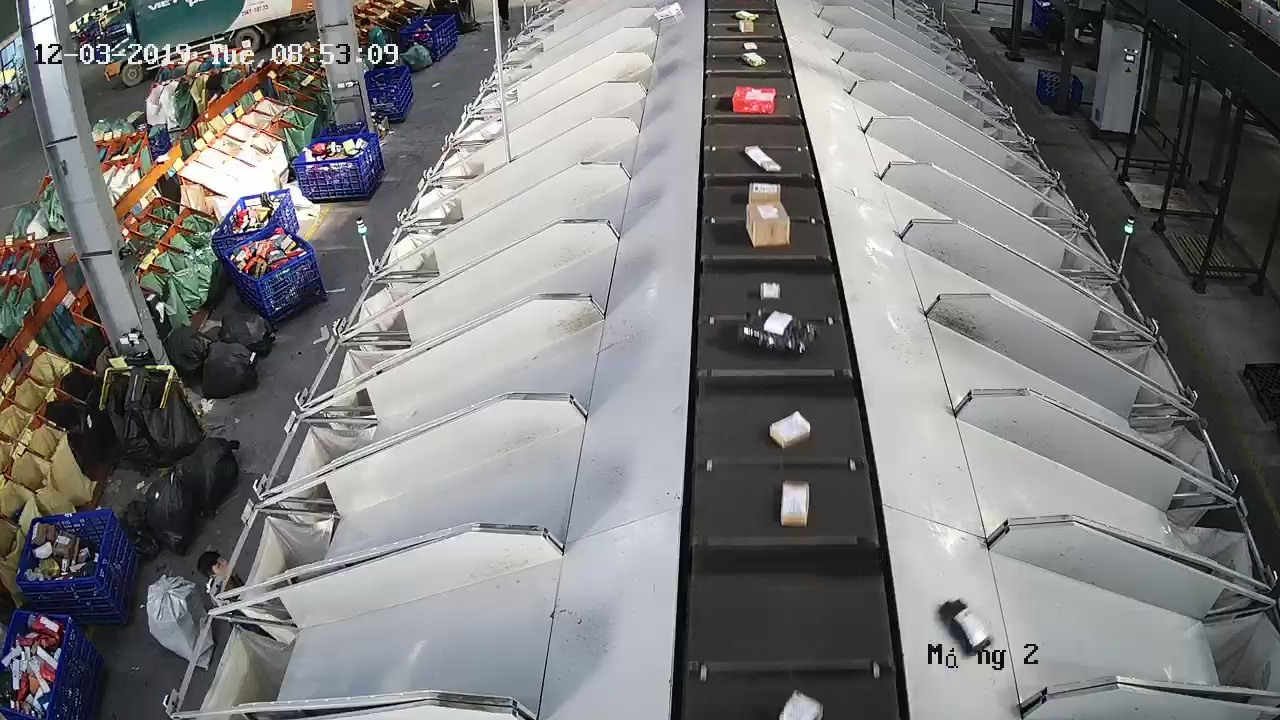parcel: (937, 598, 991, 656)
